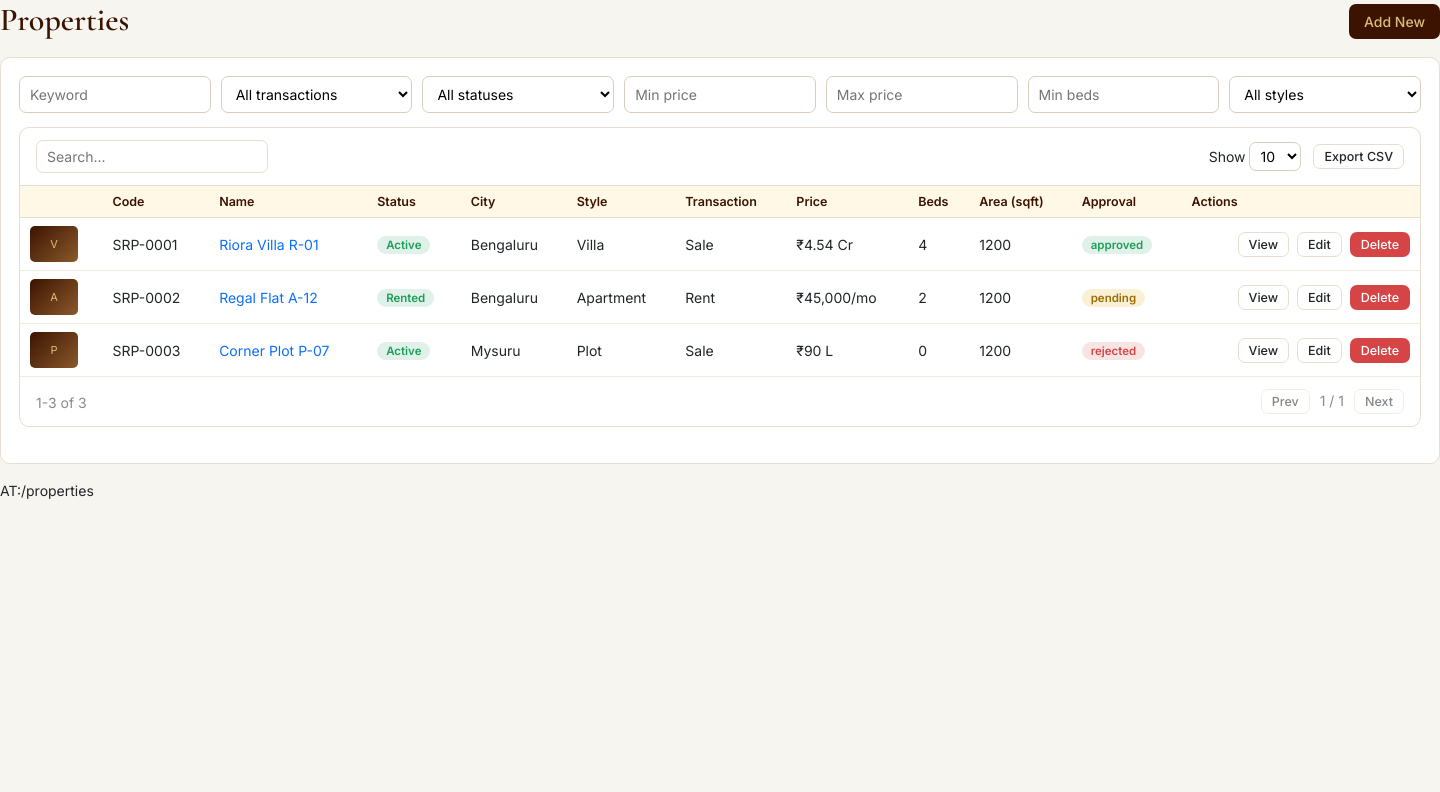
Properties list (PLAN §7) › admin sees Add New, View, Edit, Delete; Add New navigates to /properties/new
Expected: the link "Riora Villa R-01" is shown, x1=219 y1=236 x2=319 y2=252
Expected: the number of buttons "Edit" is 3, x1=1297 y1=232 x2=1342 y2=256; x1=1297 y1=284 x2=1342 y2=310; x1=1297 y1=338 x2=1342 y2=362
Click the button "Add New": click(1394, 22) x1=1349 y1=4 x2=1439 y2=39
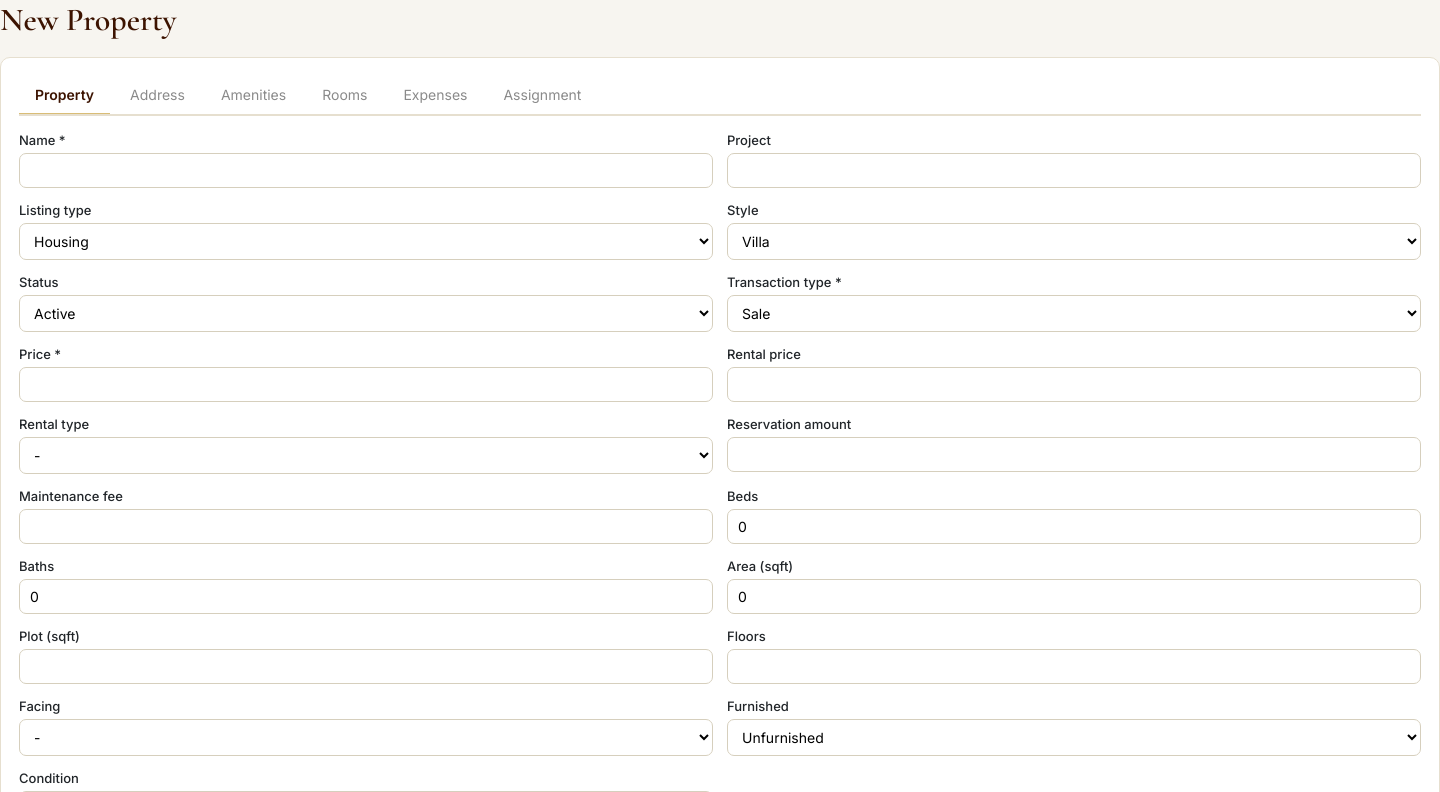
Expected: the heading "New Property" is shown, x1=0 y1=0 x2=176 y2=39
